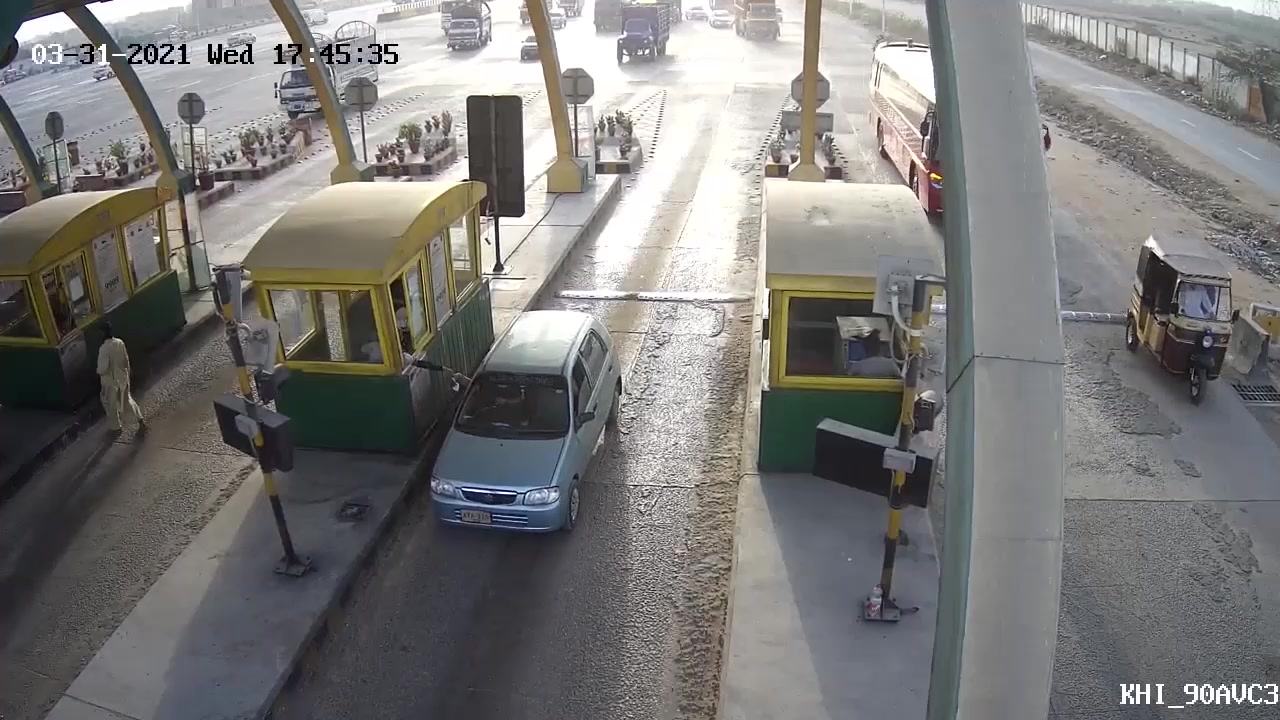F1: (411, 304, 638, 556)
